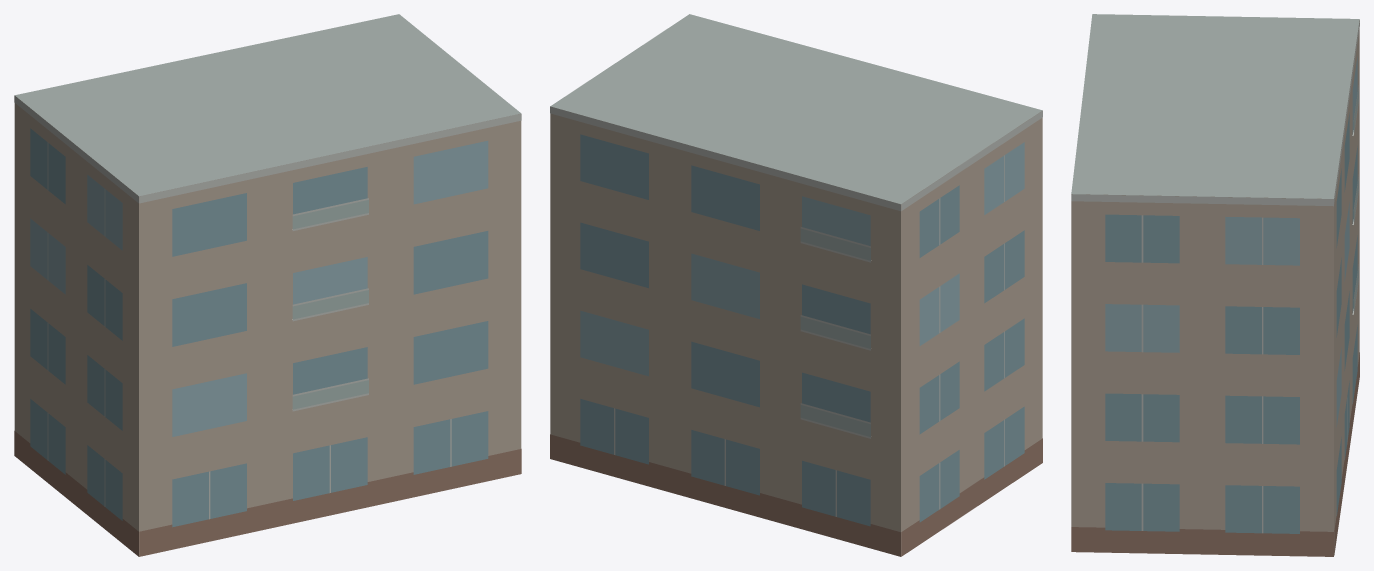
Rendered from survey-upis-32859464.glb.
3 views of the same model, side by side, from view 1: azimuth 30°, elevation 25°; view 2: azimuth 150°, elevation 25°; view 3: azimuth 270°, elevation 25° (orthographic). The views are drawn at different scales.
Visible parts, largest first — view 1: survey-upis-32859464.tmp; view 2: survey-upis-32859464.tmp; view 3: survey-upis-32859464.tmp.
Boxes of the visible parts, box(x1,y1,x2,y2) form: survey-upis-32859464.tmp: box(14, 14, 521, 556); survey-upis-32859464.tmp: box(550, 14, 1042, 556); survey-upis-32859464.tmp: box(1071, 14, 1359, 556).
Bounding box in the file's own units: 13.54 × 12.2 × 8.93.
